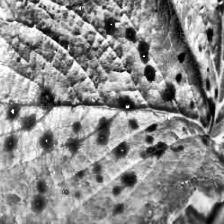Leaf Spot: (0, 0, 224, 224), (154, 0, 224, 124)
